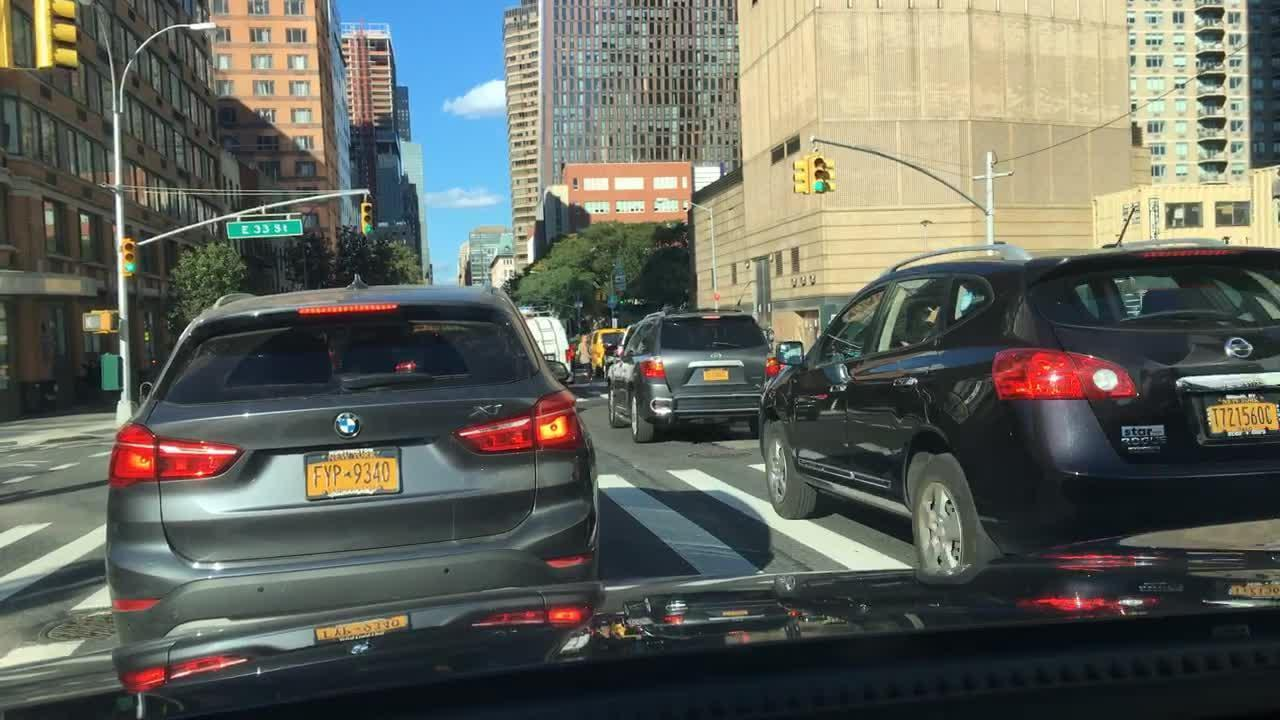Nissan: (1218, 330, 1262, 366)
bmw: (330, 408, 364, 443)
